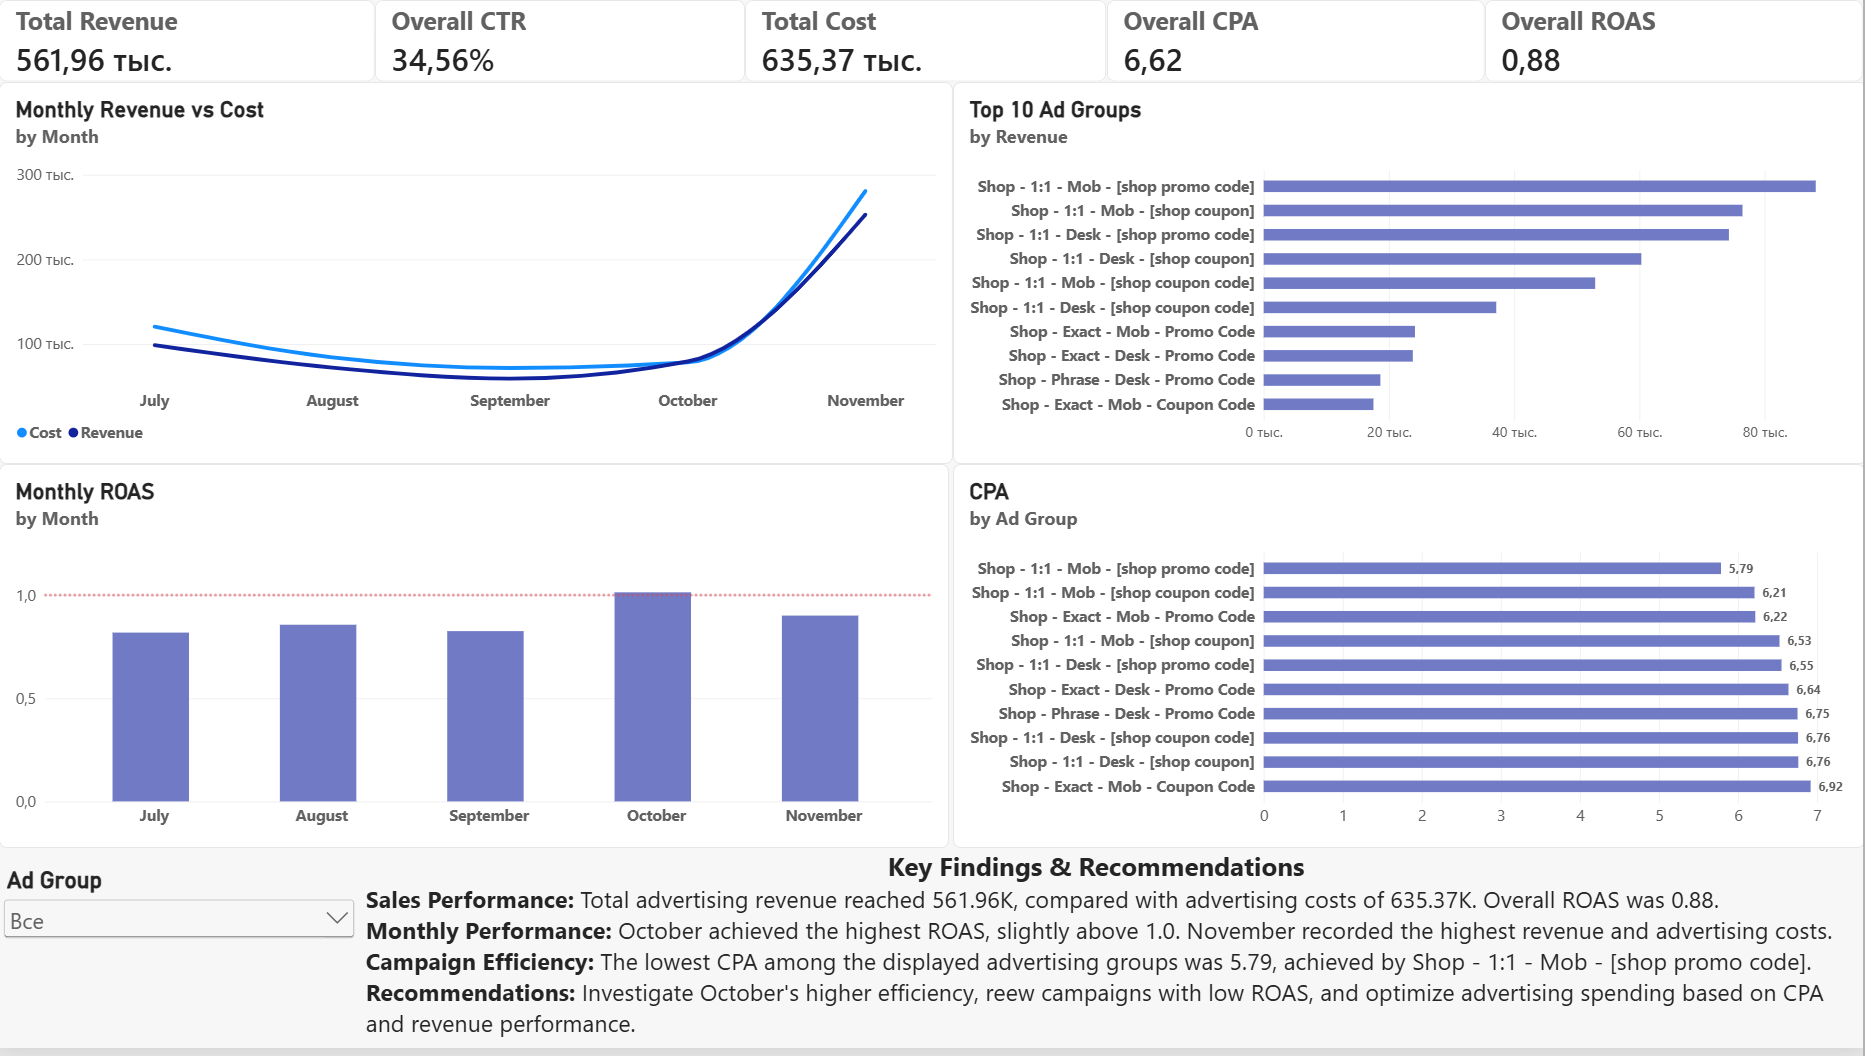

Layout of this report page (visuals, bound fields, positions):
{"tool":"powerbi","page":{"name":"Страница 1","canvas":[1920,1080],"ordinal":0},"visuals":[{"type":"cardVisual","fields":{"Data":["Sum(monthly_analysis.Total Revenue)"]},"box":[0,0,387.3,84.5],"z":0},{"type":"cardVisual","fields":{"Data":["Sum(monthly_analysis.Total Cost)"]},"box":[768.4,0,372.9,84.5],"z":1000},{"type":"cardVisual","fields":{"Data":["monthly_analysis.Overall ROAS"]},"box":[1530.6,0,389.4,84.5],"z":2000},{"type":"lineChart","title":"Monthly Revenue vs Cost","fields":{"Category":["final_shop_6modata.Month"],"Y":["Sum(final_shop_6modata.Cost)","Sum(final_shop_6modata.Revenue)"]},"box":[0,84.5,982.7,393.5],"z":3000},{"type":"clusteredBarChart","title":"Top 10 Ad Groups","fields":{"Category":["final_shop_6modata.Ad Group"],"Y":["Sum(final_shop_6modata.Revenue)"]},"box":[982.7,84.5,941.5,393.5],"z":4000},{"type":"cardVisual","fields":{"Data":["campaign_analysis.Overall CPA"]},"box":[1141.3,0,389.4,84.5],"z":5000},{"type":"cardVisual","fields":{"Data":["campaign_analysis.Overall CTR"]},"box":[387.3,0,381.1,84.5],"z":6000},{"type":"clusteredColumnChart","title":"Monthly ROAS","fields":{"Category":["final_shop_6modata.Month"],"Y":["final_shop_6modata.Overal ROAS"]},"box":[0,477.9,978.5,395.5],"z":7000},{"type":"clusteredBarChart","title":"CPA ","fields":{"Category":["final_shop_6modata.Ad Group"],"Y":["final_shop_6modata.Overal CPA"]},"box":[982.7,477.9,939.4,395.5],"z":8000},{"type":"textbox","box":[335.8,873.5,1588.3,206],"z":9000},{"type":"slicer","fields":{"Values":["final_shop_6modata.Ad Group"]},"box":[0,892,370.8,187.5],"z":9001}]}

Visuals, with their boxes in screenshot pixels (x1, y1, x2, y2), scaled from the page's 1920x1080 canvas onto the 1866x1056 screenshot:
cardVisual - Sum(monthly_analysis.Total Revenue): 0, 0, 376, 83
cardVisual - Sum(monthly_analysis.Total Cost): 747, 0, 1109, 83
cardVisual - monthly_analysis.Overall ROAS: 1488, 0, 1865, 83
"Monthly Revenue vs Cost" lineChart: 0, 83, 955, 467
"Top 10 Ad Groups" clusteredBarChart: 955, 83, 1865, 467
cardVisual - campaign_analysis.Overall CPA: 1109, 0, 1488, 83
cardVisual - campaign_analysis.Overall CTR: 376, 0, 747, 83
"Monthly ROAS" clusteredColumnChart: 0, 467, 951, 854
"CPA " clusteredBarChart: 955, 467, 1865, 854
textbox: 326, 854, 1865, 1055
slicer - final_shop_6modata.Ad Group: 0, 872, 360, 1055
